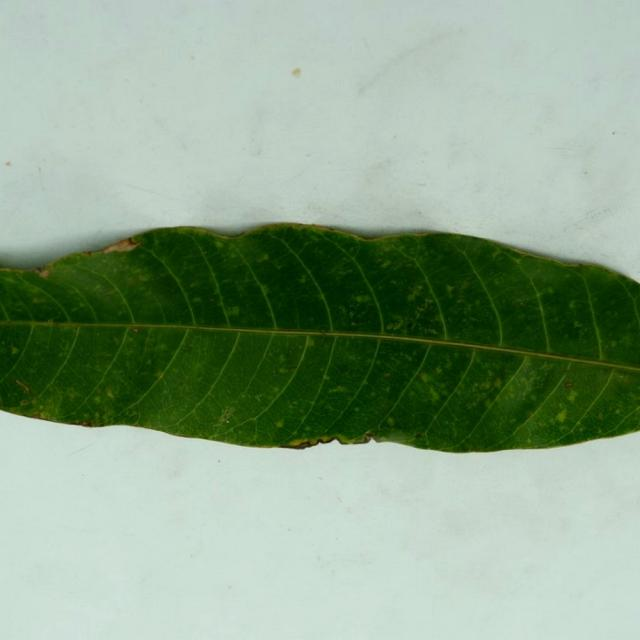Mango: (0, 223, 639, 451)
Powdery_Mildew: (507, 365, 542, 402), (550, 404, 574, 424), (285, 438, 318, 448), (218, 407, 233, 423), (386, 319, 404, 331), (427, 387, 441, 401), (34, 266, 50, 277), (354, 294, 371, 303), (329, 385, 348, 393), (566, 390, 578, 402), (259, 285, 271, 297), (616, 372, 632, 381), (227, 306, 240, 316), (493, 377, 503, 389), (419, 372, 431, 382), (256, 254, 269, 263), (484, 398, 494, 409), (426, 327, 439, 335), (127, 236, 140, 244), (406, 292, 416, 302), (298, 274, 308, 284), (106, 388, 115, 399), (491, 250, 502, 259), (213, 239, 224, 248), (32, 297, 46, 304), (138, 274, 150, 282), (274, 419, 284, 428), (386, 416, 395, 426), (445, 285, 455, 294), (306, 337, 315, 347), (568, 300, 578, 309), (291, 68, 301, 77), (380, 260, 391, 268), (11, 346, 20, 355), (434, 366, 443, 375), (155, 371, 165, 379), (573, 320, 582, 328), (564, 381, 574, 388), (94, 411, 101, 420), (545, 287, 554, 294), (192, 297, 202, 303), (94, 396, 101, 404), (610, 339, 617, 347), (414, 433, 423, 439), (145, 359, 152, 366), (615, 408, 622, 415), (425, 298, 433, 304), (353, 407, 361, 413), (178, 380, 186, 386), (597, 412, 603, 419), (526, 436, 532, 443), (131, 327, 138, 333), (189, 282, 196, 288), (5, 161, 12, 167), (39, 405, 45, 411), (348, 312, 354, 318), (291, 400, 298, 405), (351, 322, 358, 326)
